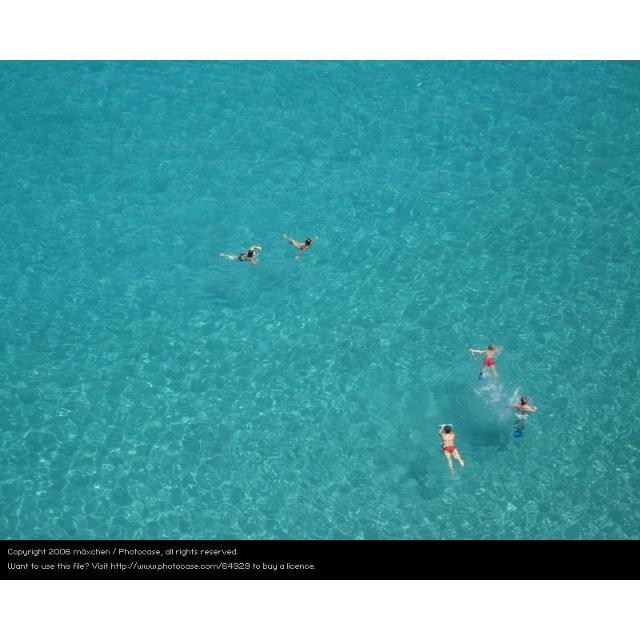human: (438, 419, 465, 475), (468, 342, 503, 381), (284, 233, 320, 262), (225, 244, 261, 268), (512, 394, 538, 422)
